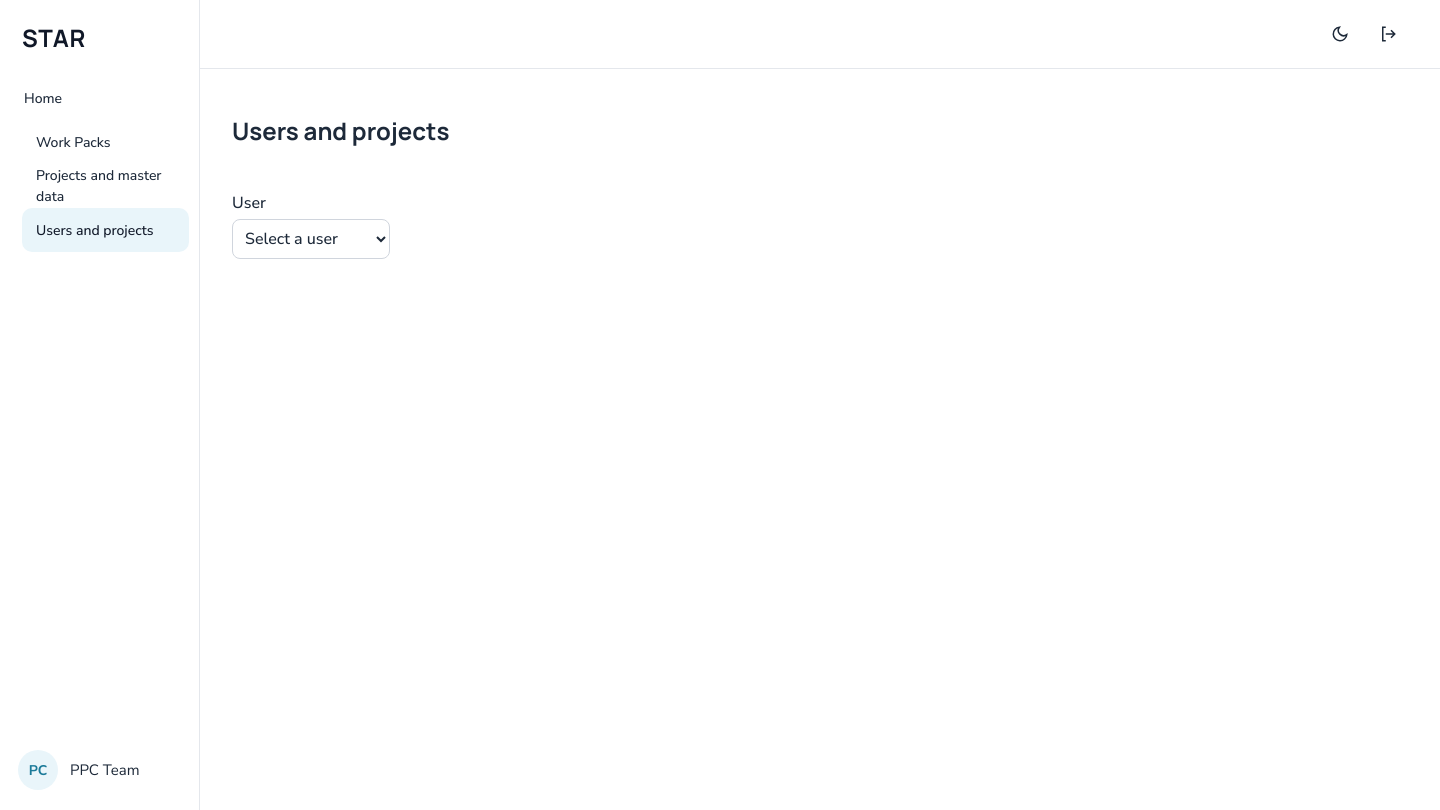
UsersPage › theLastProjectNoteDoesNotPromiseAReseed
This screenshot has width=1440, height=810.
Step 1. Select "project-engineer" in the dropdown labelled "User" → (311,239), box [232,219,390,259]
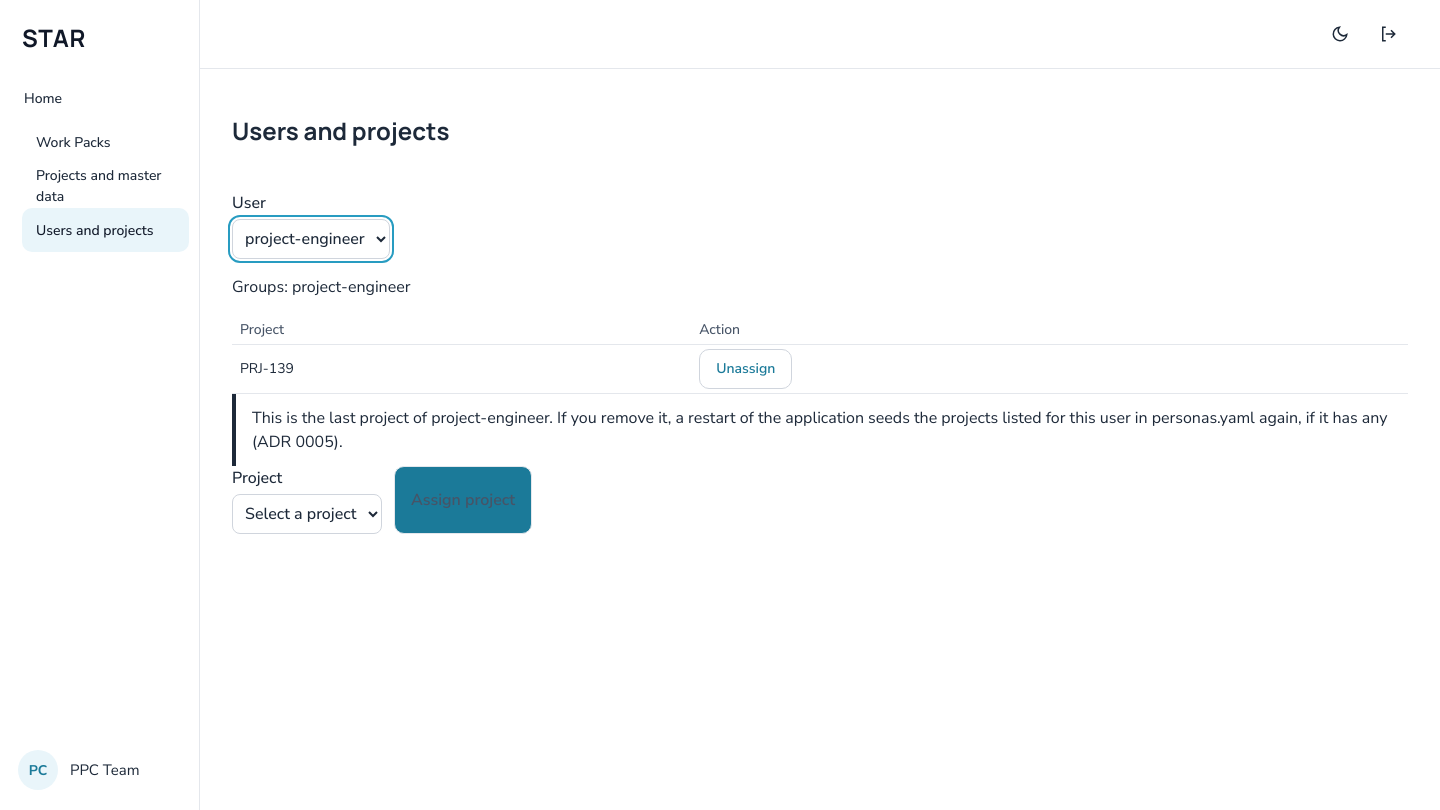
expect the text "seeds the projects of personas.yaml for this user again" is not shown: met, box [232,394,1408,466]
expect the text "if it has any" is shown: met, box [252,407,1388,453]
